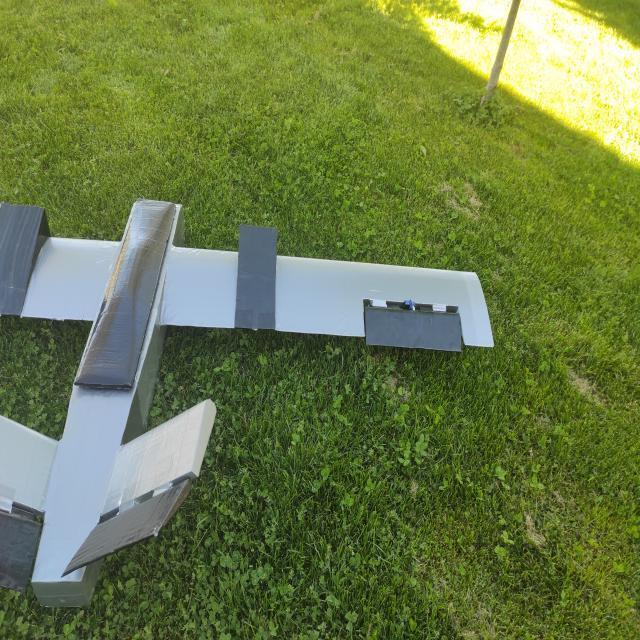UAV: (0, 206, 511, 608)
